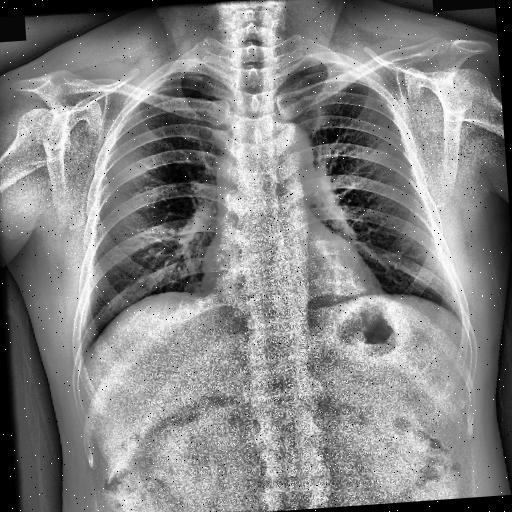0- Aortic enlargement: (261, 120, 314, 188), (257, 118, 315, 180), (270, 120, 318, 178)
